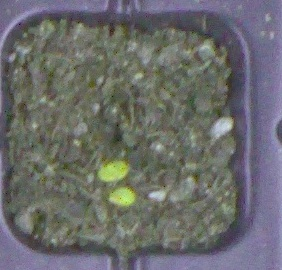chilli seed: (98, 159, 128, 182), (107, 186, 136, 207)
